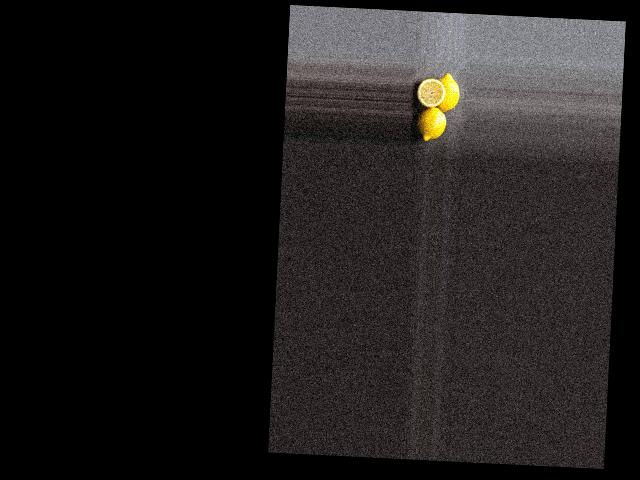lemon: (434, 70, 463, 113)
